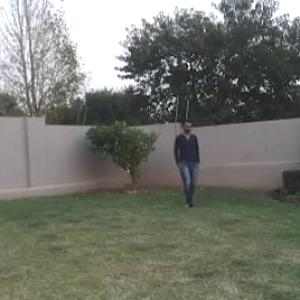follow: (173, 118, 204, 212)
